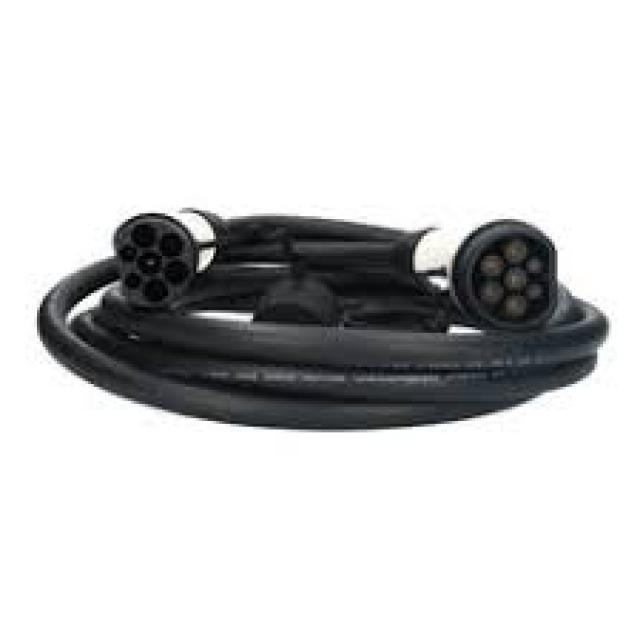Type 2: (387, 190, 599, 376), (71, 173, 234, 347)
